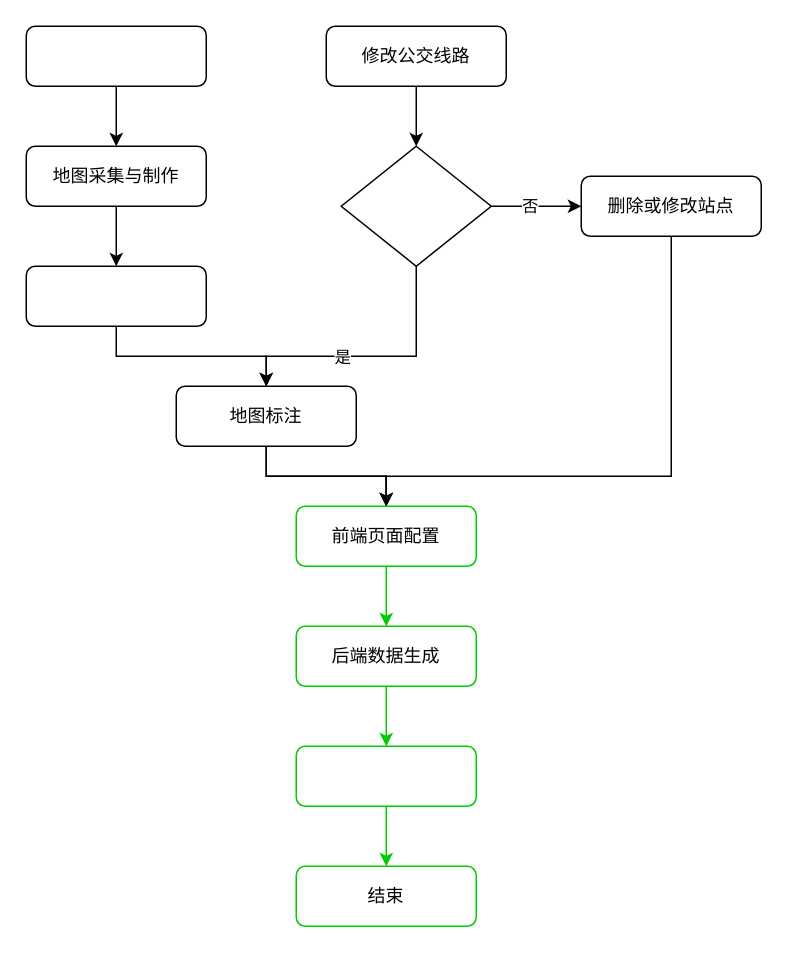
Some shapes in this 788 by 953 pixel diagram are drawn without their labels. The shapes that lost their labels are listed below. From the top down, each one's box as (x1, y1, x2, y2) in pixels, then its label:
(25, 25, 206, 86): 新增公交线路
(340, 145, 491, 266): 是否新增站点
(25, 265, 206, 326): 确定公交线路
(295, 745, 476, 806): 人工审核发布
